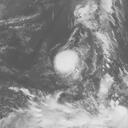cyclone: (50, 48, 87, 82)
